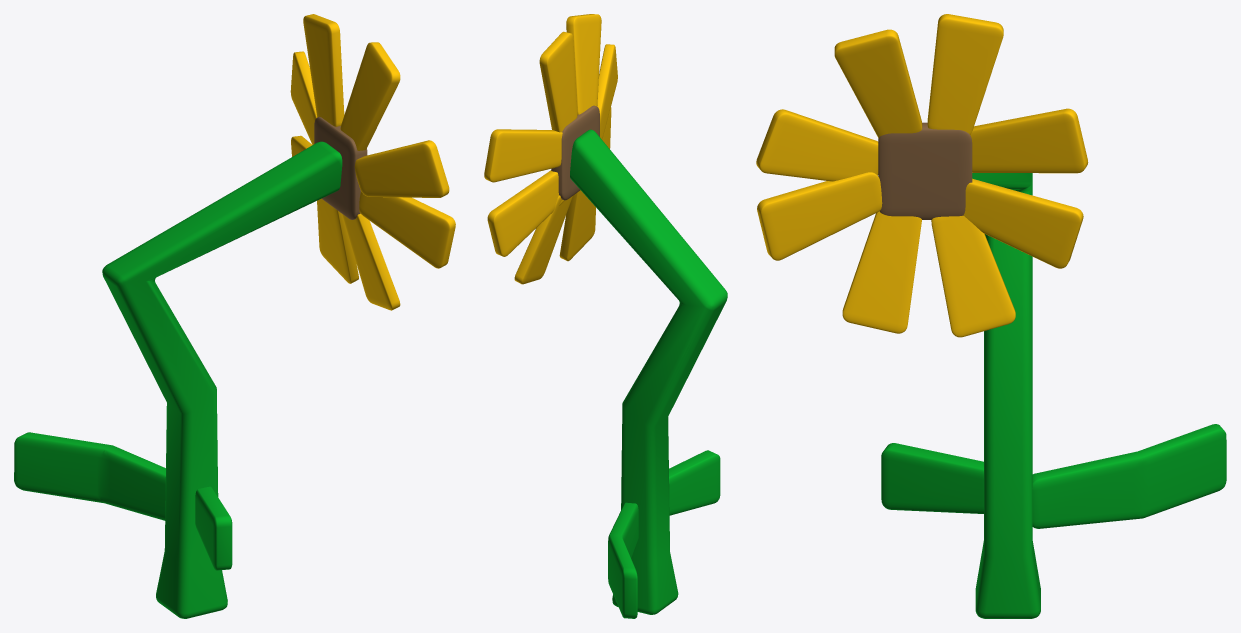
Rendered from 3D Sunflower_model.fbx.
3 views of the same model, side by side, from view 1: azimuth 30°, elevation 25°; view 2: azimuth 150°, elevation 25°; view 3: azimuth 270°, elevation 25° (orthographic). The views are drawn at different scales.
Visible parts, largest first — view 1: Sunflower; view 2: Sunflower; view 3: Sunflower.
Boxes of the visible parts, box(x1,y1,x2,y2) form: Sunflower: box(14, 14, 455, 618); Sunflower: box(484, 14, 727, 618); Sunflower: box(756, 14, 1226, 618).
Bounding box in the file's own units: 924 × 2115 × 1376.
